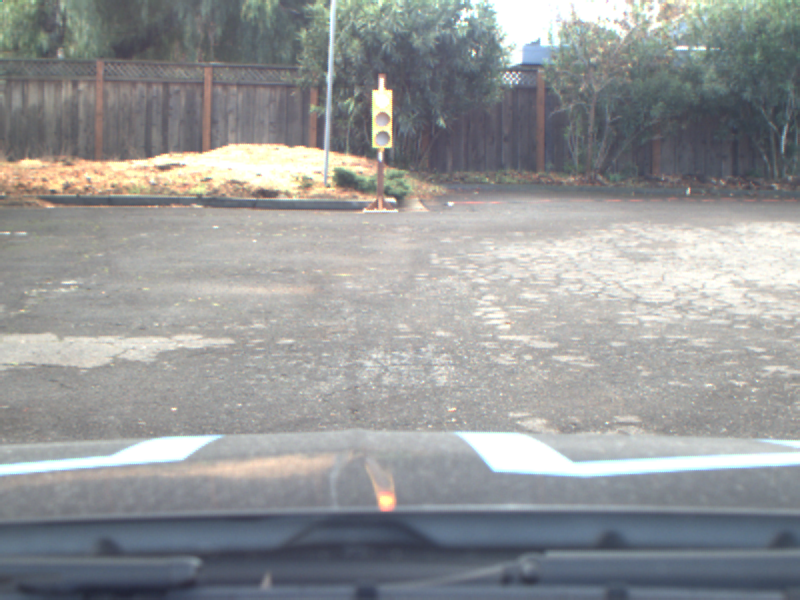Red: (371, 90, 392, 148)
